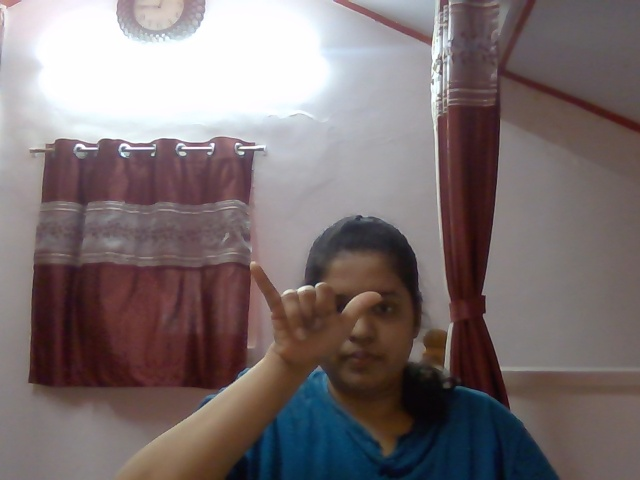y: (224, 259, 392, 370)
